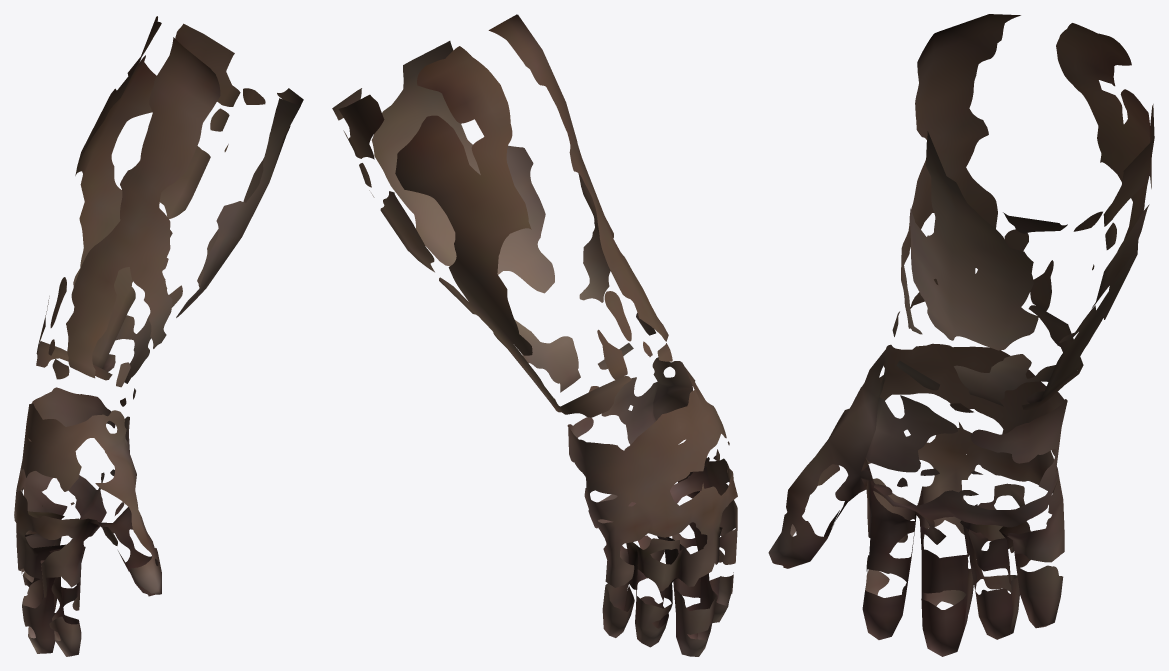
The model's file is BottomRightHend.obj.
3 renders of one model, left to right at view 1: azimuth 30°, elevation 25°; view 2: azimuth 150°, elevation 25°; view 3: azimuth 270°, elevation 25°, orthographic. The views are drawn at different scales.
Visible parts, largest first — view 1: rdmobj01; view 2: rdmobj01; view 3: rdmobj01.
Part boxes in pixels (left/top/right/bottom): rdmobj01: left=14, top=16, right=303, bottom=656; rdmobj01: left=332, top=14, right=737, bottom=656; rdmobj01: left=768, top=14, right=1154, bottom=656.
Bounding box in the file's own units: 0.9303 × 1.59 × 0.7506.
1 material, 1 textured.
